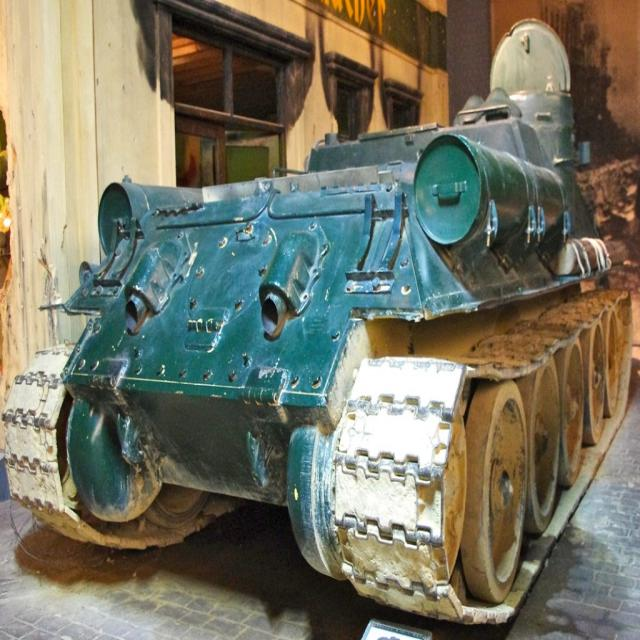tank: (2, 14, 634, 624)
